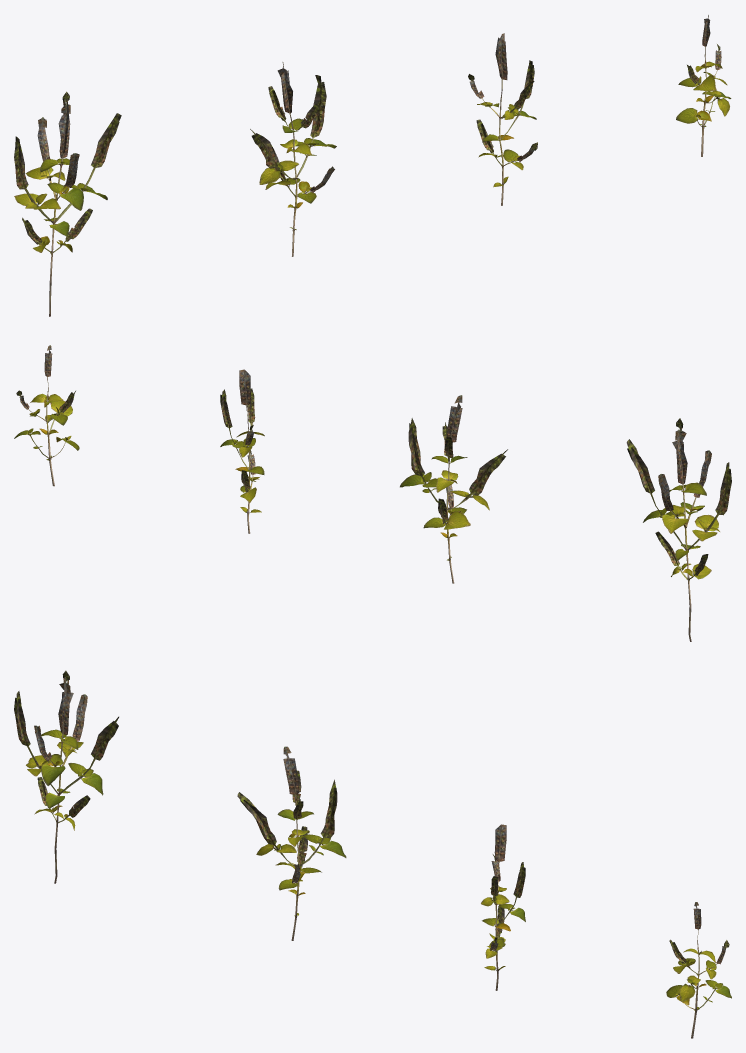
File: shrub_03.gltf
3 renders of one model, top to bottom at view 1: azimuth 30°, elevation 25°; view 2: azimuth 150°, elevation 25°; view 3: azimuth 330°, elevation 25°, orthographic. The views are drawn at different scales.
Visible parts, largest first — view 1: shrub_03_a, shrub_03_b, shrub_03_c, shrub_03_d; view 2: shrub_03_a, shrub_03_b, shrub_03_c, shrub_03_d; view 3: shrub_03_a, shrub_03_b, shrub_03_c, shrub_03_d.
Part boxes in pixels (x1,y1,x2,y2): shrub_03_a: (14,91,121,316); shrub_03_b: (250,62,336,256); shrub_03_c: (468,33,537,205); shrub_03_d: (676,15,731,156); shrub_03_a: (626,418,731,641); shrub_03_b: (400,395,507,583); shrub_03_c: (220,369,264,533); shrub_03_d: (14,345,79,486); shrub_03_a: (14,670,118,883); shrub_03_b: (237,746,346,940); shrub_03_c: (481,824,525,990); shrub_03_d: (666,902,731,1038).
Bounding box in the file's own units: 1.37 × 0.4028 × 0.1512.
Materials: 1 (1 with a texture image).
